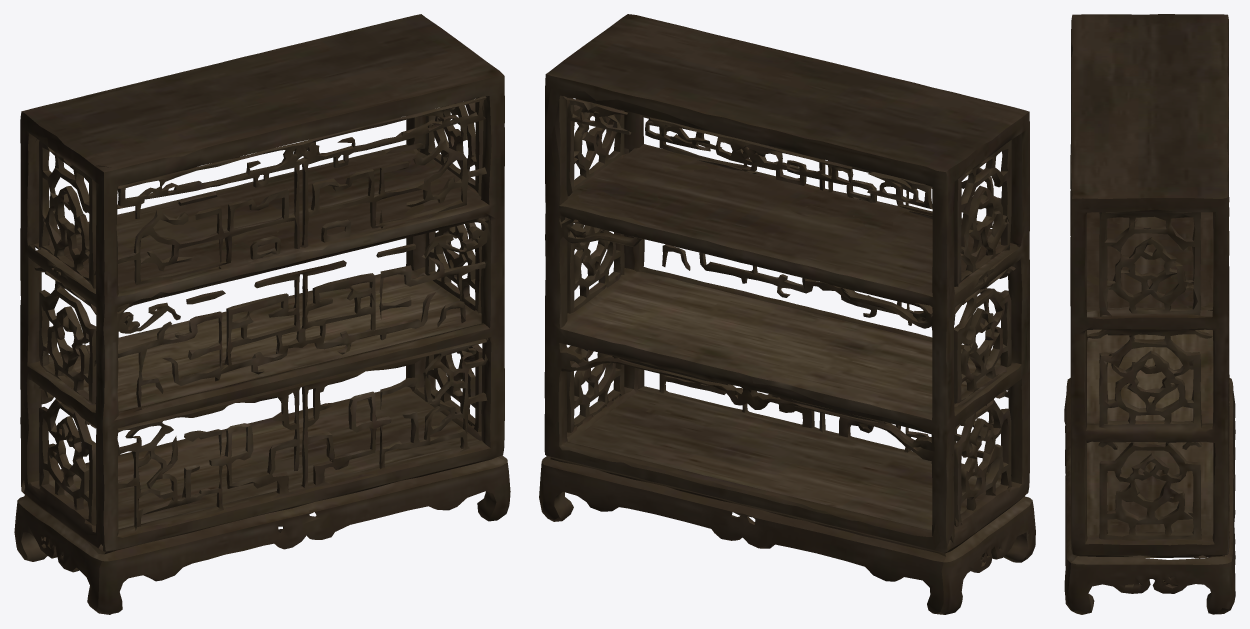
File: bookshelf.glb
The picture shows the model from 3 angles, left to right: view 1: azimuth 30°, elevation 25°; view 2: azimuth 150°, elevation 25°; view 3: azimuth 270°, elevation 25°; orthographic projection. The views are drawn at different scales.
Visible parts, largest first — view 1: geometry_0; view 2: geometry_0; view 3: geometry_0.
Boxes of the visible parts, <box> form: geometry_0: <box>14,14,510,614</box>; geometry_0: <box>539,14,1035,614</box>; geometry_0: <box>1064,14,1235,614</box>.
Size of the model in its own units: 1.56 by 1.6 by 0.5917.
1 material, 1 textured.
